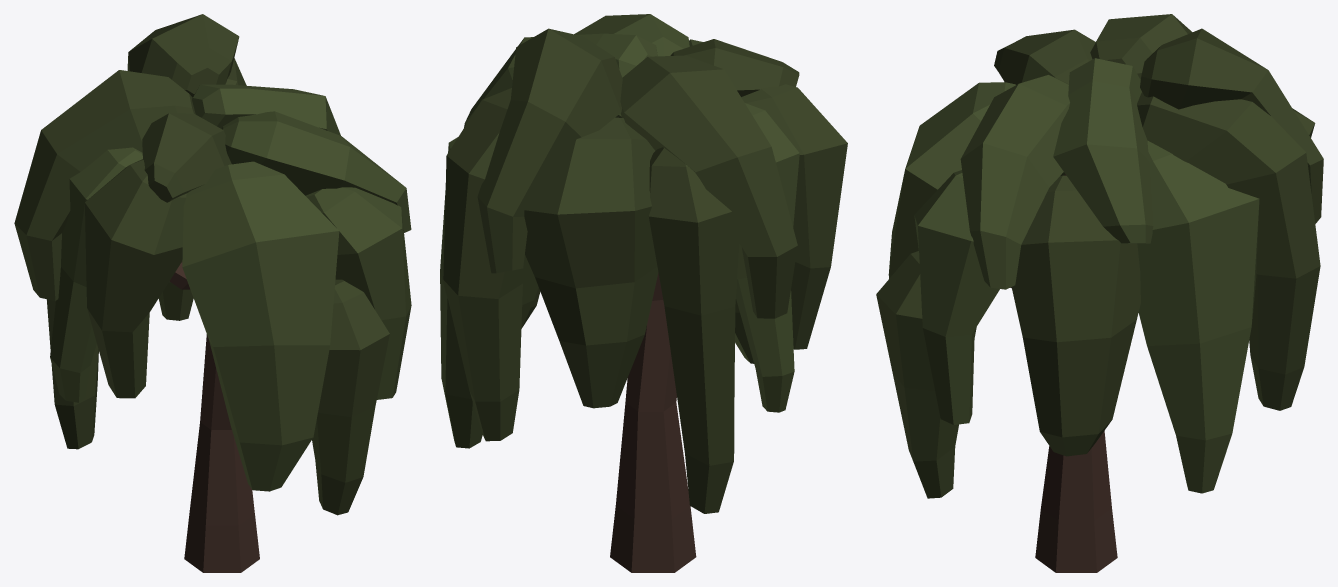
File: Tree Type6 03.glb
3 views of the same model, side by side, from view 1: azimuth 30°, elevation 25°; view 2: azimuth 150°, elevation 25°; view 3: azimuth 270°, elevation 25° (orthographic). The views are drawn at different scales.
Visible parts, largest first — view 1: Tree_Type6_03_mesh; view 2: Tree_Type6_03_mesh; view 3: Tree_Type6_03_mesh.
Boxes of the visible parts, x1=… form: Tree_Type6_03_mesh: x1=14, y1=14, x2=411, y2=572; Tree_Type6_03_mesh: x1=440, y1=14, x2=847, y2=572; Tree_Type6_03_mesh: x1=876, y1=14, x2=1323, y2=572.
Bounding box in the file's own units: 2.45 × 3.66 × 2.76.
Materials: 1 (1 with a texture image).
